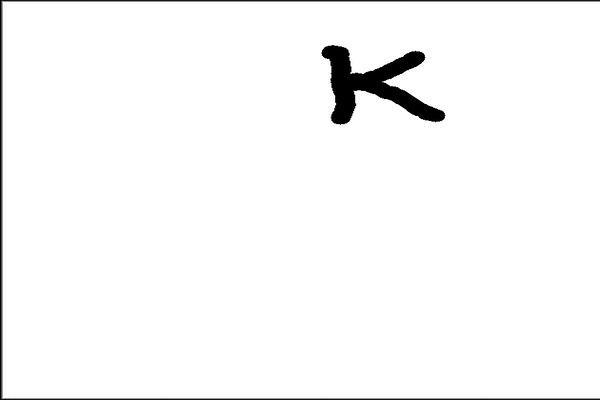K: (313, 36, 455, 134)
